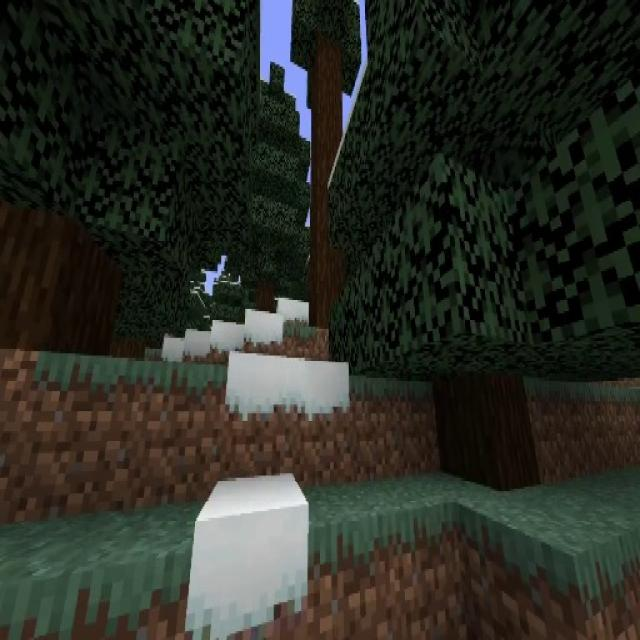spruce: (289, 0, 363, 319), (232, 60, 310, 324)
spruce_log: (0, 210, 114, 369), (434, 374, 535, 493), (313, 56, 343, 325), (258, 282, 275, 315)
